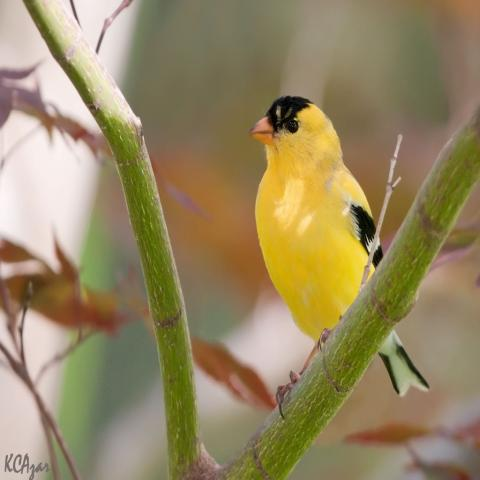bird: (246, 91, 431, 406)
